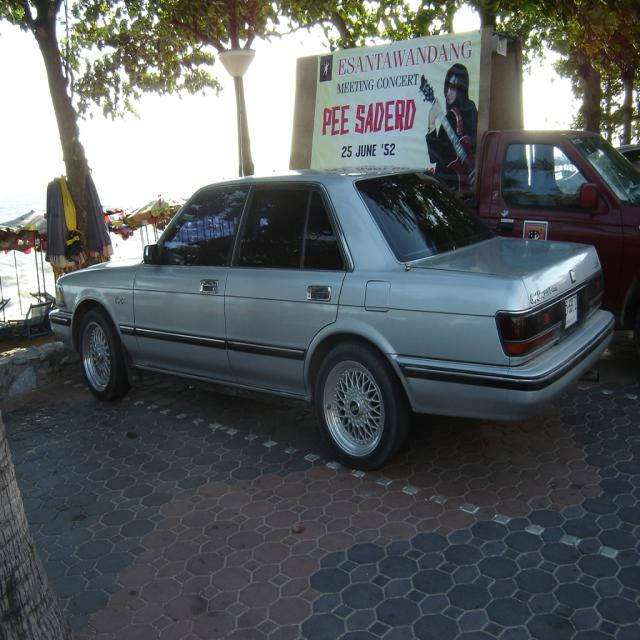car: (50, 173, 610, 467)
